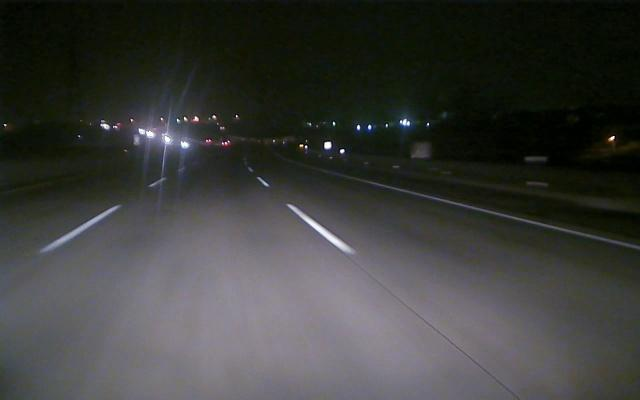lane: (349, 176, 637, 250), (34, 181, 159, 253), (258, 179, 360, 254)
